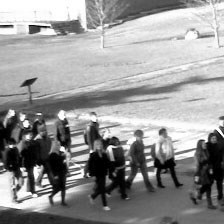person: (154, 126, 183, 189), (86, 138, 111, 211), (127, 129, 154, 192), (191, 138, 212, 207), (106, 136, 128, 200), (206, 133, 224, 211), (19, 128, 38, 198), (48, 140, 67, 207), (53, 109, 74, 165), (3, 138, 19, 203), (83, 110, 104, 158), (36, 127, 51, 192), (14, 112, 34, 150), (216, 116, 224, 184), (33, 112, 46, 140)
